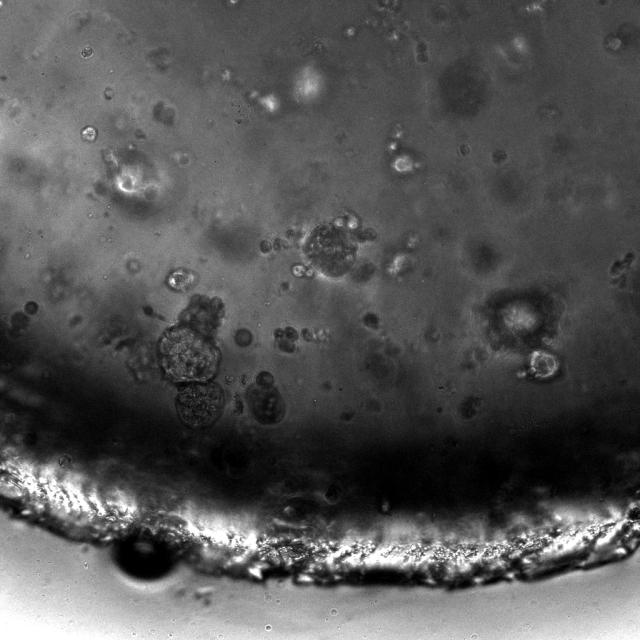organoid: (157, 294, 224, 429), (260, 209, 376, 281), (479, 286, 563, 381), (246, 371, 285, 424), (609, 252, 635, 288), (165, 267, 199, 293), (11, 301, 37, 333), (274, 326, 299, 353), (234, 328, 252, 347), (80, 125, 98, 142), (362, 312, 379, 329), (81, 46, 92, 58)
